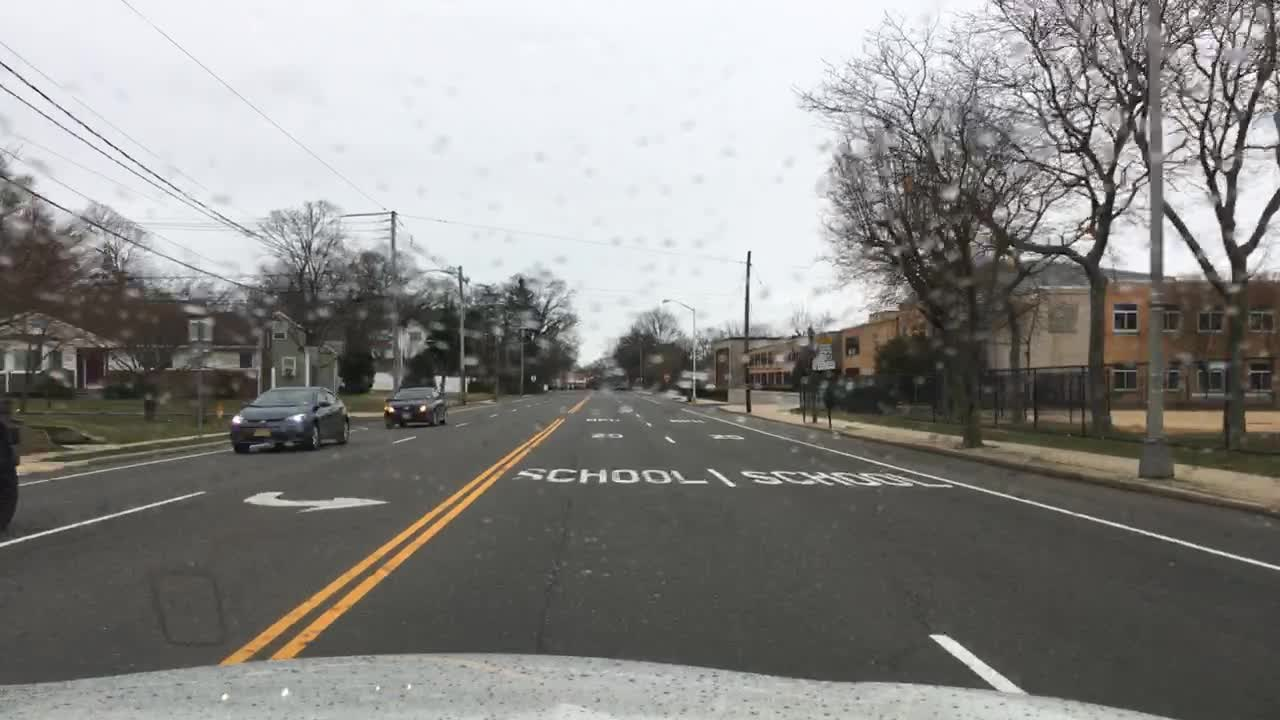car: (227, 382, 354, 457), (379, 382, 449, 429), (0, 411, 22, 529)
traffic sign: (809, 340, 837, 370), (366, 331, 394, 341)
